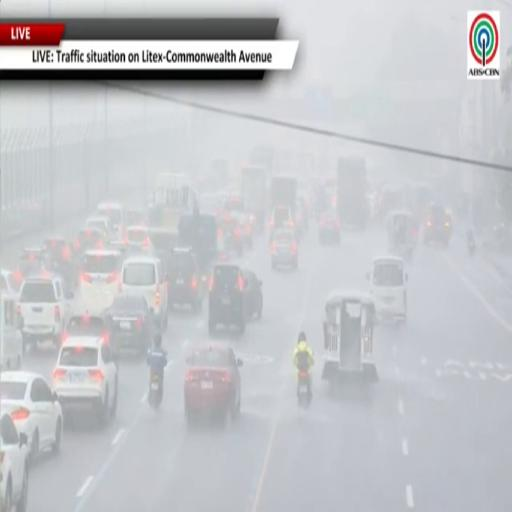car: (53, 336, 118, 424), (0, 372, 63, 459), (185, 343, 242, 426), (17, 274, 74, 349), (119, 255, 168, 331), (0, 411, 29, 511), (77, 250, 121, 314), (107, 295, 154, 354), (367, 255, 408, 321), (209, 264, 245, 334), (168, 248, 203, 312), (0, 292, 23, 370), (42, 237, 77, 284), (63, 313, 110, 341), (149, 228, 178, 273), (423, 204, 451, 247), (271, 229, 298, 269), (96, 202, 125, 239), (220, 214, 244, 255), (243, 270, 263, 318), (17, 248, 46, 280), (74, 228, 108, 254), (319, 211, 341, 245), (125, 226, 152, 252), (233, 213, 253, 248), (84, 216, 113, 239), (270, 206, 294, 232), (0, 269, 22, 295), (218, 228, 231, 262), (125, 207, 148, 226), (224, 195, 245, 212)
motorcycle: (148, 372, 163, 409), (298, 371, 311, 408), (467, 234, 475, 256)
truck: (336, 156, 368, 228), (241, 165, 267, 231), (271, 175, 297, 219), (249, 144, 275, 175)
